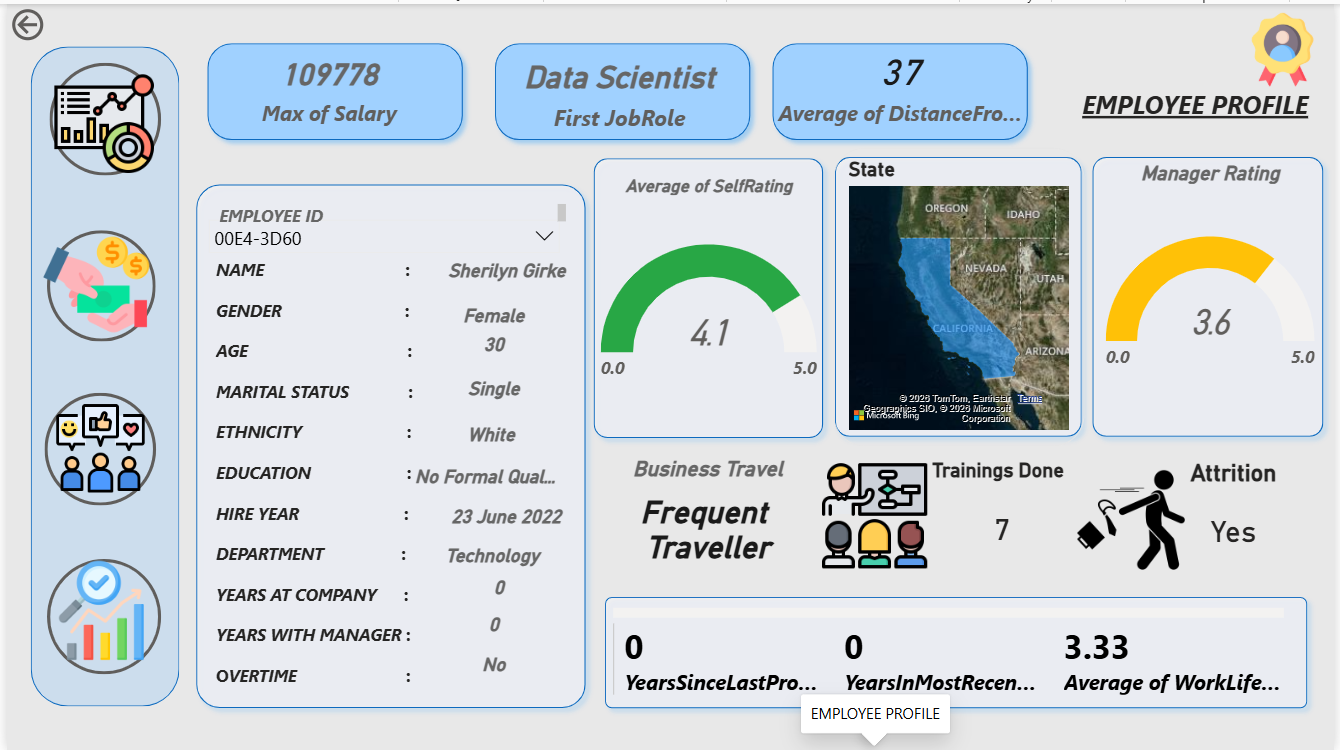

Layout of this report page (visuals, bound fields, positions):
{"tool":"powerbi","page":{"name":"EMPLOYEE PROFILE","canvas":[1280,720],"ordinal":5},"visuals":[{"type":"shape","box":[1039.3,139.1,240.7,288],"z":0},{"type":"shape","box":[557.9,140.5,239.3,288],"z":1000},{"type":"shape","box":[790.3,139.1,256,288],"z":2000},{"type":"shape","box":[173.9,165.6,393.7,523.1],"z":3000},{"type":"shape","box":[567.7,563.5,695.7,125.2],"z":4000},{"type":"shape","box":[22.9,41,143.6,637],"z":5000},{"type":"shape","box":[730.4,29.2,264.3,111.3],"z":6000},{"type":"shape","box":[461.9,29.2,264.3,111.3],"z":7000},{"type":"shape","box":[185,29.2,264.3,111.3],"z":8000},{"type":"actionButton","box":[40.9,56.9,107.7,108.9],"z":9000},{"type":"actionButton","box":[38.8,218.8,105,107.5],"z":10000},{"type":"actionButton","box":[35.9,375.1,107.7,108.9],"z":11000},{"type":"actionButton","box":[38.4,536,110.2,111.4],"z":12000},{"type":"image","box":[33.8,66.2,120,98.8],"z":13000},{"type":"image","box":[27.2,219.1,116.4,102.7],"z":14000},{"type":"image","box":[39.6,536,102.7,99],"z":15000},{"type":"image","box":[42.1,385,95.3,87.9],"z":16000},{"type":"image","box":[1182.6,7,97.4,73.7],"z":17000},{"type":"textbox","box":[1032.3,76.5,235.1,47.3],"z":18000},{"type":"card","fields":{"Values":["Min(Employees.Name)"]},"box":[290.9,229,383.8,56.9],"z":19000},{"type":"card","fields":{"Values":["Avg(Employees.Age)"]},"box":[319.2,299,300.7,60.5],"z":20000},{"type":"card","fields":{"Values":["Min(Employees.Gender)"]},"box":[319.2,285.6,300.7,25.2],"z":21000},{"type":"card","fields":{"Values":["Min(Employees.MaritalStatus)"]},"box":[319.2,346,300.7,50.4],"z":22000},{"type":"textbox","box":[196.5,240.2,253.6,460.3],"z":23000},{"type":"slicer","fields":{"Values":["Employees.EmployeeID"]},"box":[184.5,197.4,358.7,42.6],"z":24000},{"type":"card","fields":{"Values":["Min(Employees.Ethnicity)"]},"box":[357.1,396.9,220.8,38.6],"z":25000},{"type":"card","fields":{"Values":["Min(Employees.EducationLevel)"]},"box":[388.5,428.3,146,55.5],"z":26000},{"type":"card","fields":{"Values":["Min(Employees.HireDate)"]},"box":[353.5,480.2,257,30.2],"z":27000},{"type":"card","fields":{"Values":["Min(Employees.Department)"]},"box":[318.5,507.9,300.4,49.5],"z":28000},{"type":"card","fields":{"Values":["Avg(Employees.YearsAtCompany)"]},"box":[324.2,549.3,300.7,28.6],"z":29000},{"type":"card","fields":{"Values":["Avg(Employees.YearsWithCurrManager)"]},"box":[319.2,577.8,300.7,42],"z":30000},{"type":"card","fields":{"Values":["Min(Employees.OverTime)"]},"box":[319.2,619.8,300.7,35.3],"z":31000},{"type":"card","fields":{"Values":["Max(Employees.Salary)"]},"box":[185,29.2,253.2,101.6],"z":32000},{"type":"card","fields":{"Values":["Min(Employees.JobRole)"]},"box":[461.9,34.8,258.8,96],"z":33000},{"type":"card","fields":{"Values":["Avg(Employees.DistanceFromHome (KM))"]},"box":[733.2,25,257.4,101.6],"z":34000},{"type":"gauge","fields":{"Y":["Avg(Employees.SelfRating)"]},"box":[567.7,165.6,218.4,250.4],"z":35000},{"type":"card","title":"Business Travel","fields":{"Values":["Max(Employees.BusinessTravel)"]},"box":[587.1,436.9,178.1,112.7],"z":36000},{"type":"gauge","title":"Manager Rating","fields":{"Y":["Avg(Employees.ManagerRating)"]},"box":[1056,151.7,211.5,256],"z":37000},{"type":"filledMap","fields":{"Category":["Employees.State"]},"box":[797.2,139.1,242.1,288],"z":38000},{"type":"image","box":[1032.3,436.9,104.3,122.4],"z":39000},{"type":"card","title":"Attrition","fields":{"Values":["Min(Employees.Attrition)"]},"box":[1104.7,439.7,157.2,109.9],"z":40000},{"type":"card","title":"Trainings Done","fields":{"Values":["Sum(Employees.TrainingOpportunitiesTaken)"]},"box":[887.7,439.7,144.7,111.3],"z":41000},{"type":"image","box":[786.1,439.7,101.6,109.9],"z":42000},{"type":"multiRowCard","fields":{"Values":["Employees.YearsSinceLastPromotion","Employees.YearsInMostRecentRole","Avg(Employees.WorkLifeBalance)"]},"box":[580.2,577.4,656.7,100.2],"z":43000},{"type":"textbox","box":[199.8,188.5,344.4,29],"z":44000},{"type":"actionButton","box":[0,0,100,40],"z":45000}]}

Visuals, with their boxes in screenshot pixels (x1, y1, x2, y2), scaled from the page's 1280x720 canvas onto the 1340x750 screenshot:
shape: detection(1088, 145, 1339, 445)
shape: detection(584, 146, 835, 446)
shape: detection(827, 145, 1095, 445)
shape: detection(182, 172, 594, 717)
shape: detection(594, 587, 1323, 717)
shape: detection(24, 43, 174, 706)
shape: detection(765, 30, 1041, 146)
shape: detection(484, 30, 760, 146)
shape: detection(194, 30, 470, 146)
actionButton: detection(43, 59, 156, 173)
actionButton: detection(41, 228, 151, 340)
actionButton: detection(38, 391, 150, 504)
actionButton: detection(40, 558, 156, 674)
image: detection(35, 69, 161, 172)
image: detection(28, 228, 150, 335)
image: detection(41, 558, 149, 661)
image: detection(44, 401, 144, 493)
image: detection(1238, 7, 1339, 84)
textbox: detection(1081, 80, 1327, 129)
card - Min(Employees.Name): detection(305, 239, 706, 298)
card - Avg(Employees.Age): detection(334, 311, 649, 374)
card - Min(Employees.Gender): detection(334, 298, 649, 324)
card - Min(Employees.MaritalStatus): detection(334, 360, 649, 413)
textbox: detection(206, 250, 471, 730)
slicer - Employees.EmployeeID: detection(193, 206, 569, 250)
card - Min(Employees.Ethnicity): detection(374, 413, 605, 454)
card - Min(Employees.EducationLevel): detection(407, 446, 560, 504)
card - Min(Employees.HireDate): detection(370, 500, 639, 532)
card - Min(Employees.Department): detection(333, 529, 648, 581)
card - Avg(Employees.YearsAtCompany): detection(339, 572, 654, 602)
card - Avg(Employees.YearsWithCurrManager): detection(334, 602, 649, 646)
card - Min(Employees.OverTime): detection(334, 646, 649, 682)
card - Max(Employees.Salary): detection(194, 30, 459, 136)
card - Min(Employees.JobRole): detection(484, 36, 754, 136)
card - Avg(Employees.DistanceFromHome (KM)): detection(768, 26, 1037, 132)
gauge - Avg(Employees.SelfRating): detection(594, 172, 823, 433)
"Business Travel" card: detection(615, 455, 801, 573)
"Manager Rating" gauge: detection(1106, 158, 1327, 425)
filledMap - Employees.State: detection(835, 145, 1088, 445)
image: detection(1081, 455, 1190, 583)
"Attrition" card: detection(1156, 458, 1321, 573)
"Trainings Done" card: detection(929, 458, 1081, 574)
image: detection(823, 458, 929, 573)
multiRowCard - Employees.YearsSinceLastPromotion x Employees.YearsInMostRecentRole: detection(607, 601, 1295, 706)
textbox: detection(209, 196, 570, 227)
actionButton: detection(0, 0, 105, 42)
